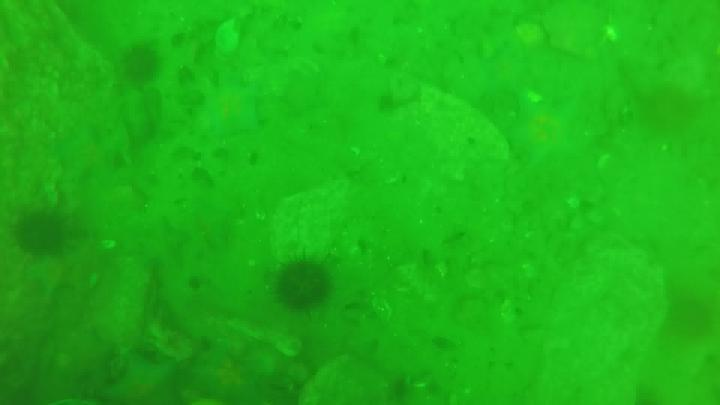echinus: (101, 351, 183, 405), (273, 260, 334, 320), (200, 88, 262, 137), (67, 328, 114, 388), (13, 209, 67, 261), (121, 46, 157, 87)
